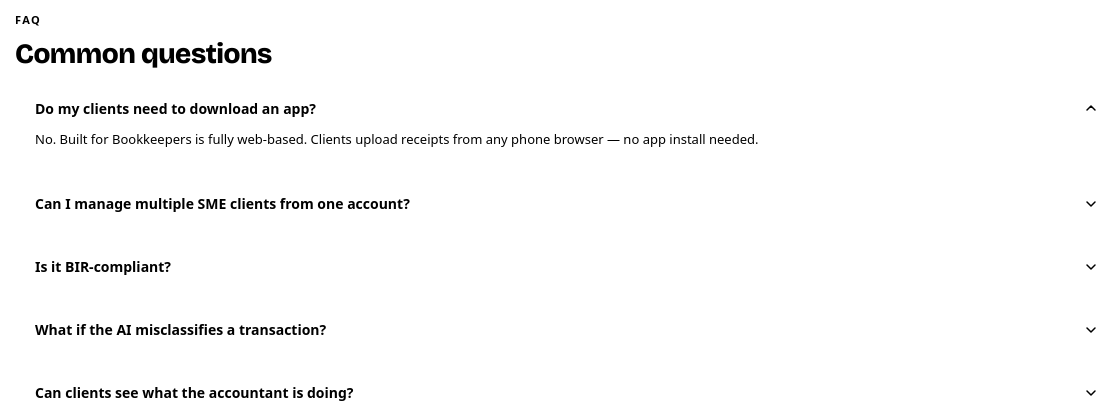
Test: FAQSection › clicking the open item closes it
Click the button "Do my clients need to download an app?". click: (176, 108)
box: [35,98,1099,118]
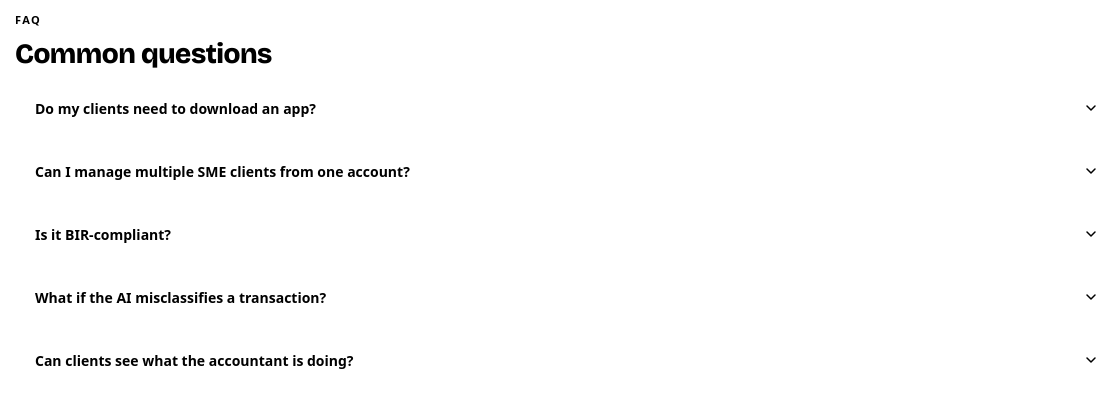
Expected: the button "Do my clients need to download an app?" is collapsed, [35,98,1099,118]
